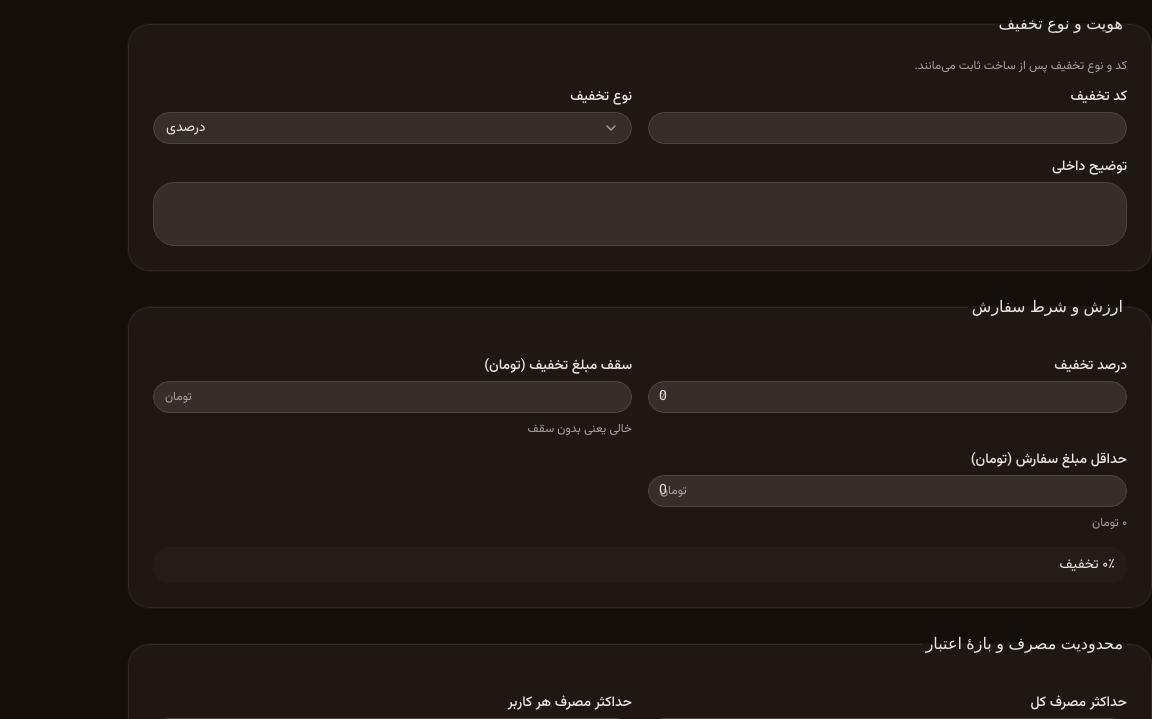
Test: CouponForm › labels money in Tomans and previews the offer in plain language
Replace the text in the number field labelled "درصد تخفیف" with "10" at (888, 397), box [648, 381, 1127, 413]
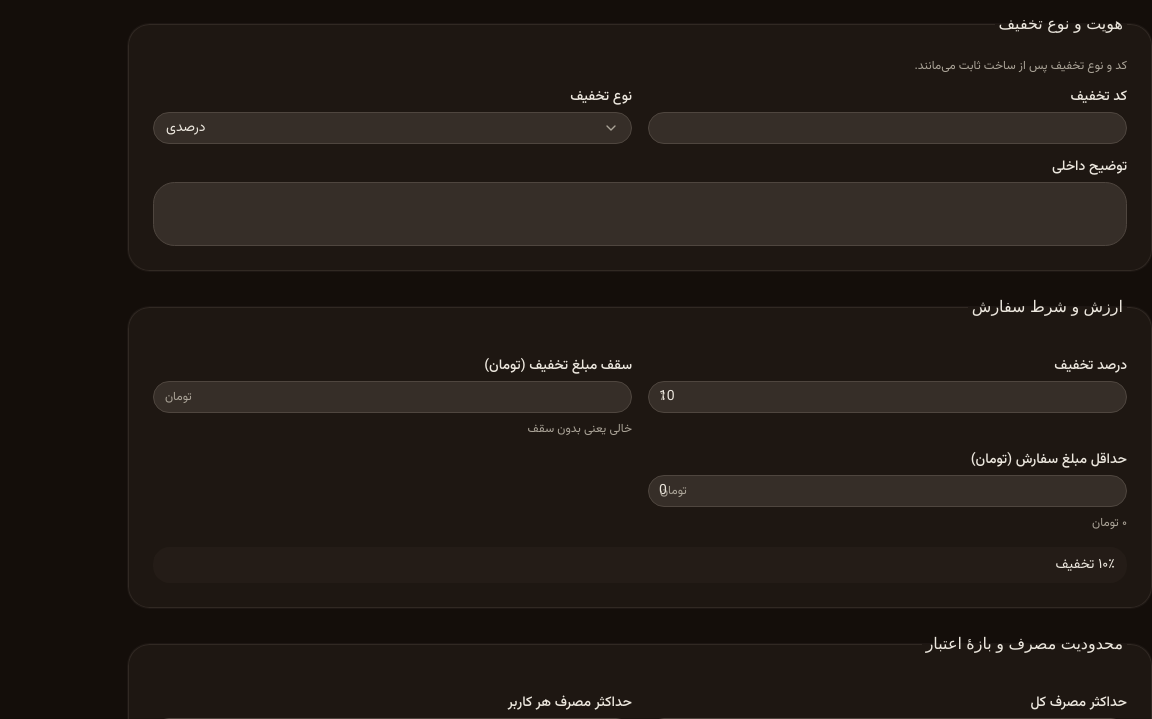
Type "50000" into the number field labelled "سقف مبلغ تخفیف (تومان)" at (392, 397), box [153, 381, 632, 413]
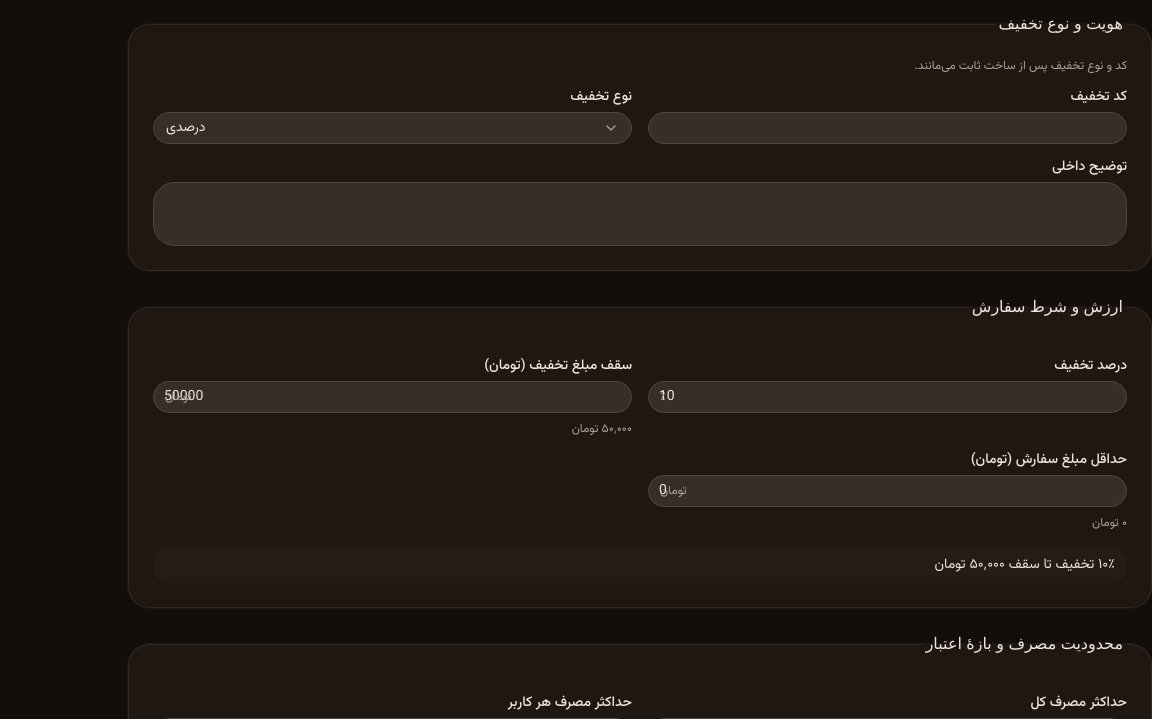
Replace the text in the number field labelled "حداقل مبلغ سفارش (تومان)" with "500000" at (888, 491), box [648, 475, 1127, 507]
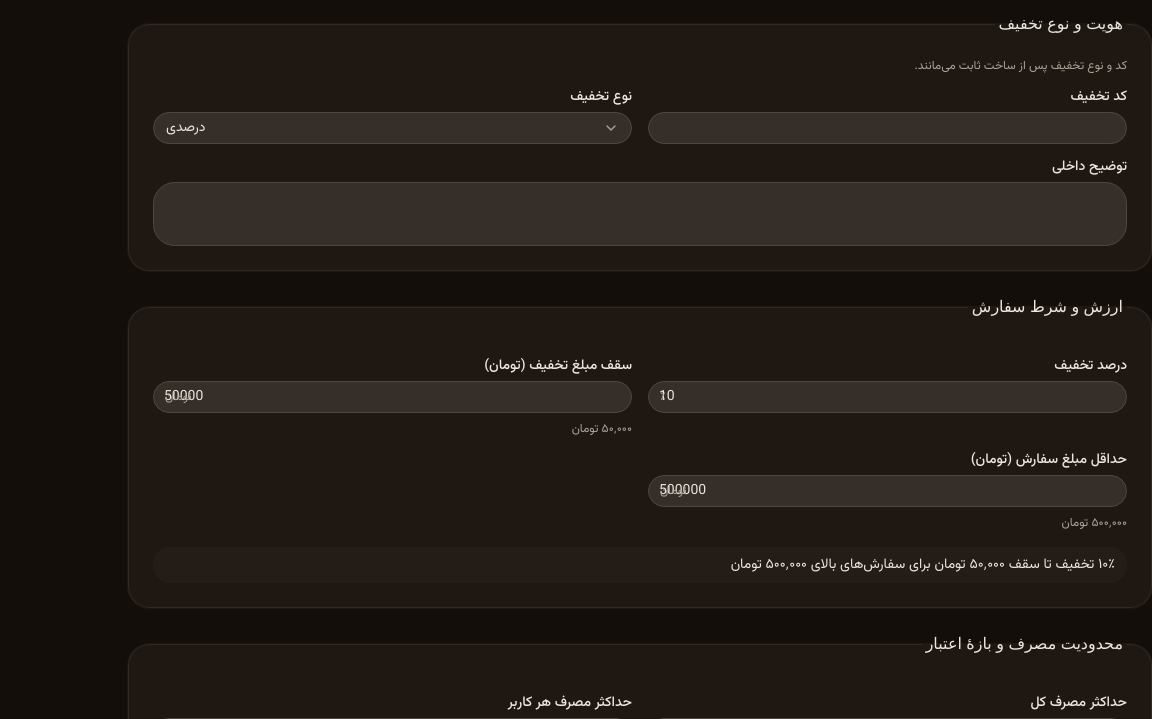
Expected: the text "۵۰٬۰۰۰ تومان" is shown, [572, 420, 632, 438]
Expected: the message reads "۱۰٪ تخفیف تا سقف ۵۰٬۰۰۰ تومان برای سفارش‌های بالای ۵۰۰٬۰۰۰ تومان", [731, 554, 1115, 576]
Expected: the text "۵۰۰٬۰۰۰ تومان" is shown, [1062, 514, 1127, 532]
